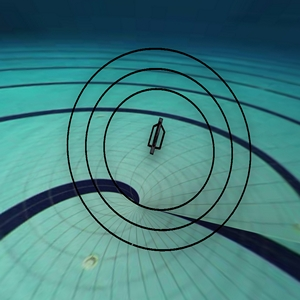circle: (58, 22, 266, 257)
submarine: (137, 112, 181, 166)
